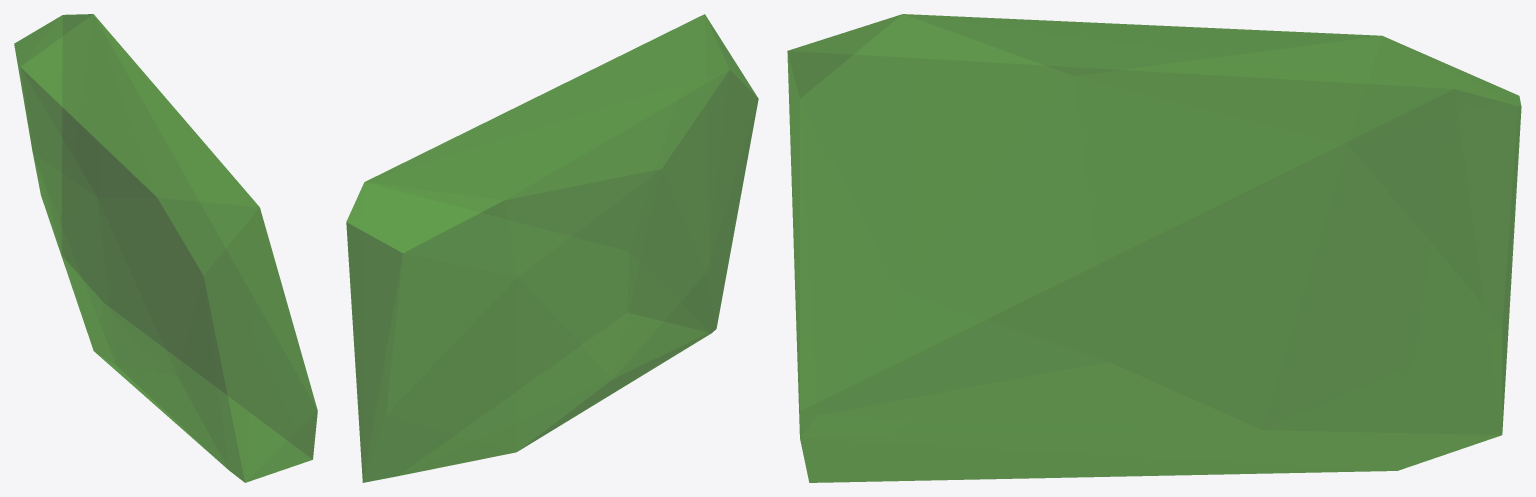
3 renders of one model, left to right at view 1: azimuth 30°, elevation 25°; view 2: azimuth 150°, elevation 25°; view 3: azimuth 270°, elevation 25°, orthographic. The views are drawn at different scales.
Parts seen in each view (by area): view 1: Shape_IndexedFaceSet.125_Shape_IndexedFaceSet.166; view 2: Shape_IndexedFaceSet.125_Shape_IndexedFaceSet.166; view 3: Shape_IndexedFaceSet.125_Shape_IndexedFaceSet.166.
Part boxes in pixels (x1,y1,x2,y2): Shape_IndexedFaceSet.125_Shape_IndexedFaceSet.166: [14, 14, 317, 482]; Shape_IndexedFaceSet.125_Shape_IndexedFaceSet.166: [346, 14, 758, 482]; Shape_IndexedFaceSet.125_Shape_IndexedFaceSet.166: [787, 14, 1521, 482].
Bounding box in the file's own units: 0.0956 × 0.1991 × 0.3285.
